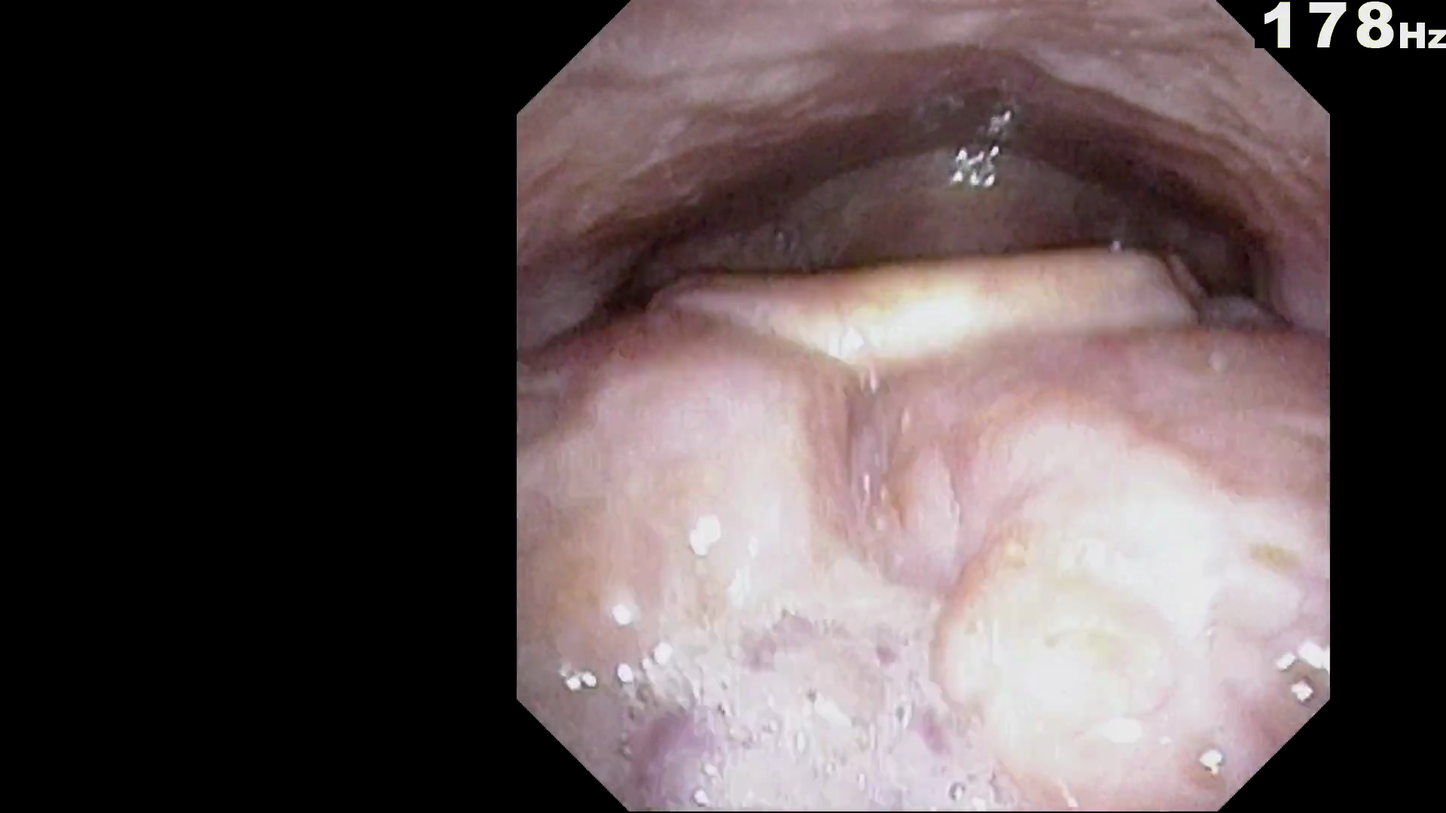epiglottis: (658, 208, 1236, 446)
trachea: (886, 235, 976, 342)
